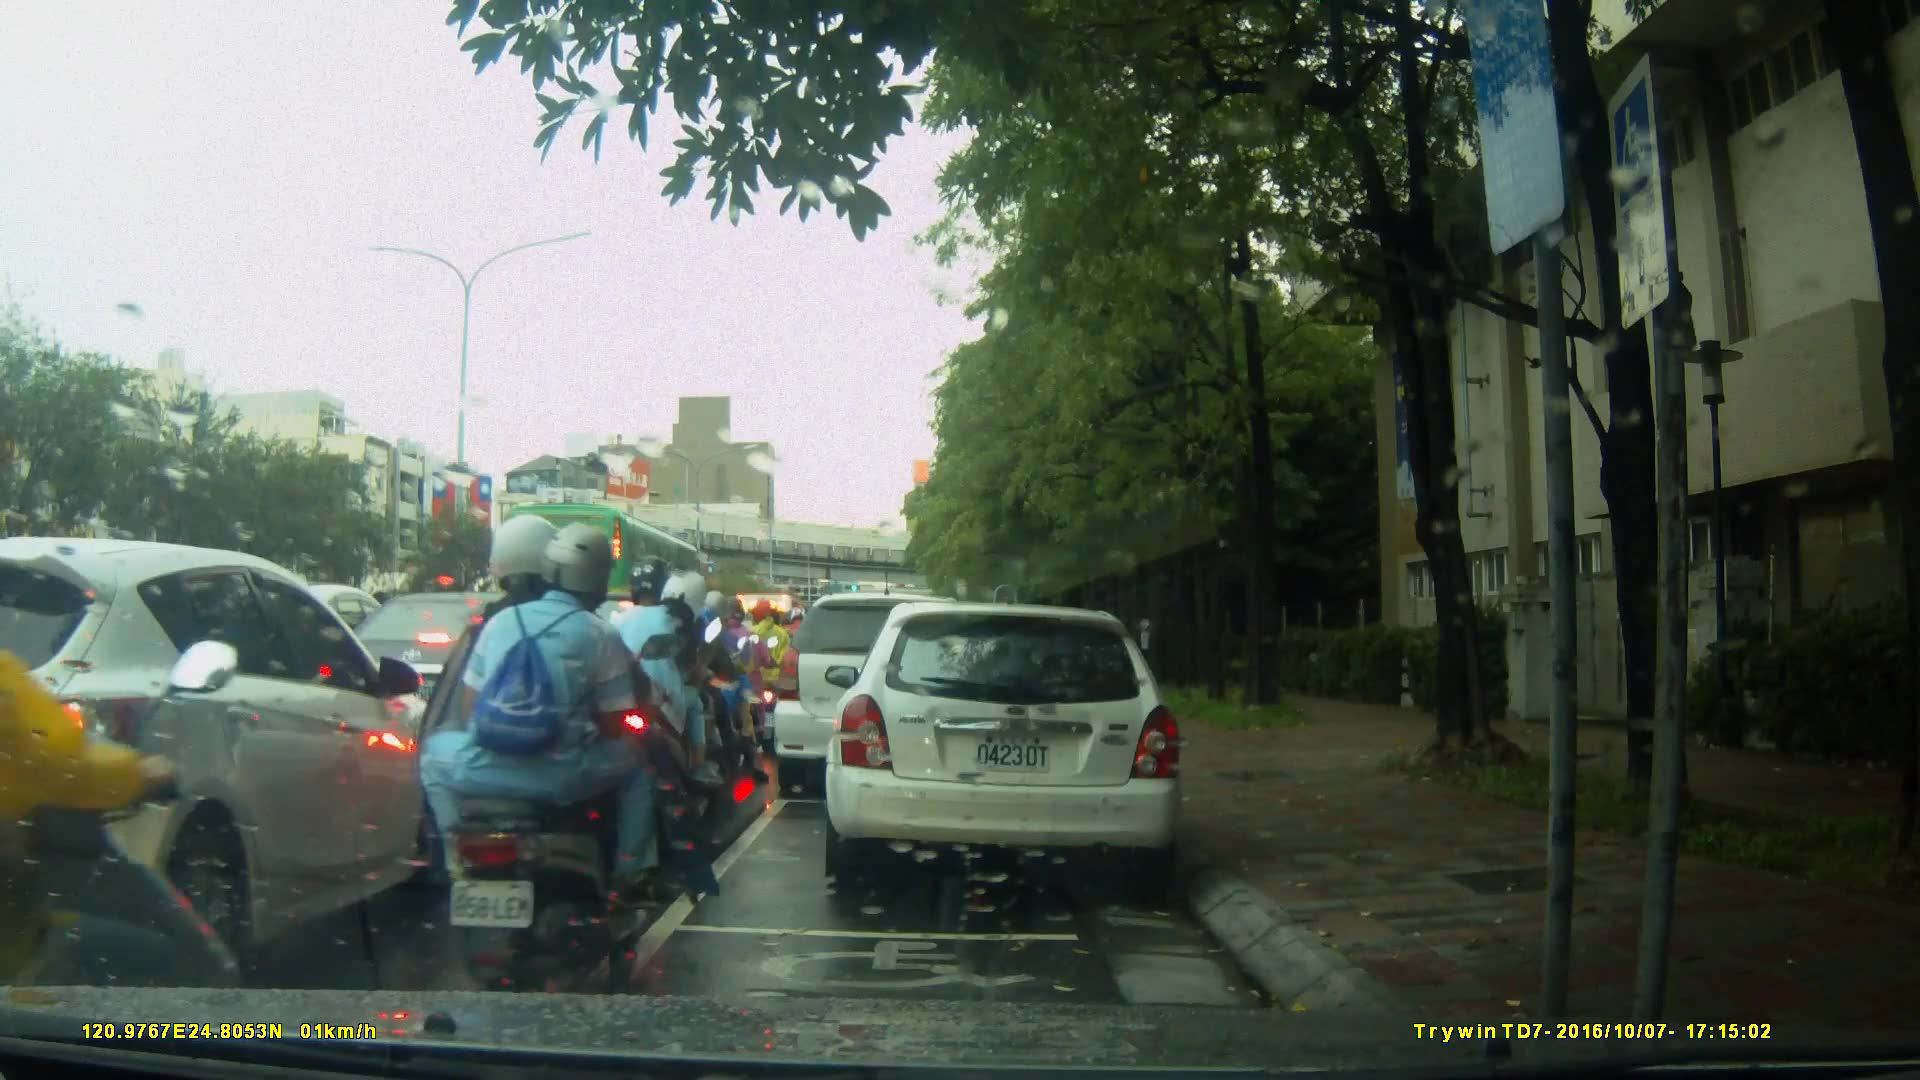rider: (418, 516, 693, 1008), (591, 562, 716, 839), (687, 588, 768, 779), (669, 585, 743, 781), (704, 598, 777, 764), (749, 598, 797, 737)
vehicle: (3, 536, 460, 987), (831, 592, 1196, 897), (312, 590, 629, 776), (772, 590, 999, 803), (496, 501, 712, 636)
